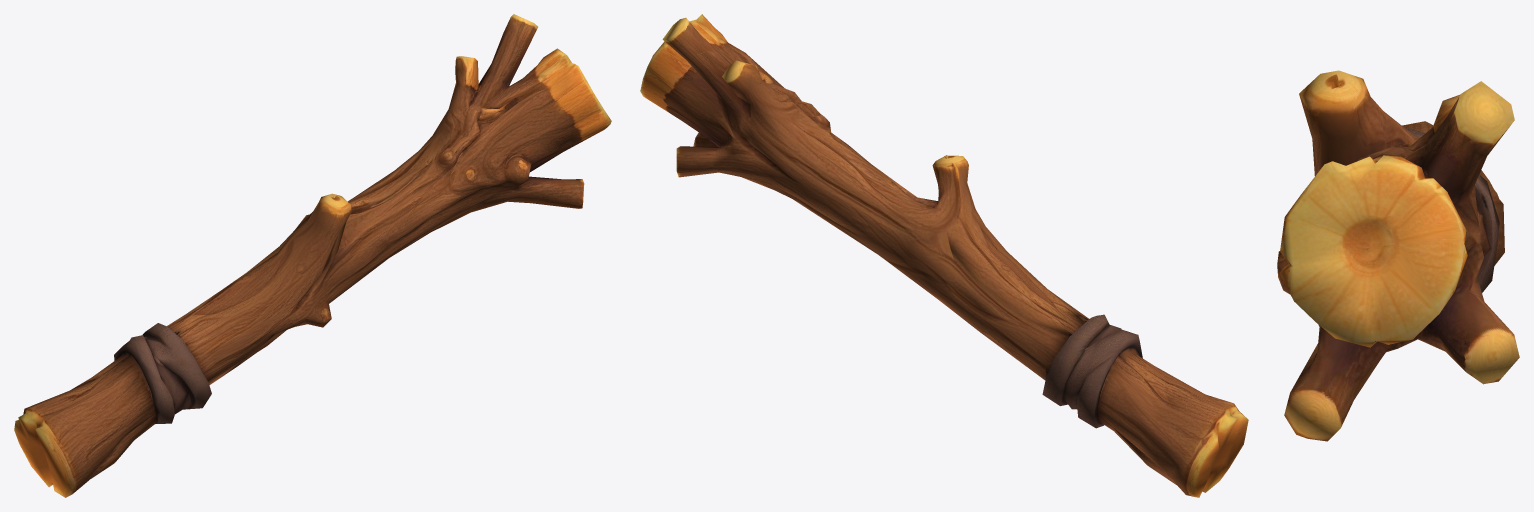
File: weapon_stick_1500.glb
3 views of the same model, side by side, from view 1: azimuth 30°, elevation 25°; view 2: azimuth 150°, elevation 25°; view 3: azimuth 270°, elevation 25° (orthographic). The views are drawn at different scales.
Parts seen in each view (by area): view 1: tripo_node_35660a74-3e12-4074-a1b7-b11360de3f39; view 2: tripo_node_35660a74-3e12-4074-a1b7-b11360de3f39; view 3: tripo_node_35660a74-3e12-4074-a1b7-b11360de3f39.
Part boxes in pixels (x1=…): tripo_node_35660a74-3e12-4074-a1b7-b11360de3f39: x1=14, y1=14, x2=611, y2=497; tripo_node_35660a74-3e12-4074-a1b7-b11360de3f39: x1=640, y1=14, x2=1248, y2=497; tripo_node_35660a74-3e12-4074-a1b7-b11360de3f39: x1=1277, y1=70, x2=1519, y2=441.
Size of the model in its own units: 0.9807 by 0.5772 by 0.182.
Materials: 1 (1 with a texture image).
